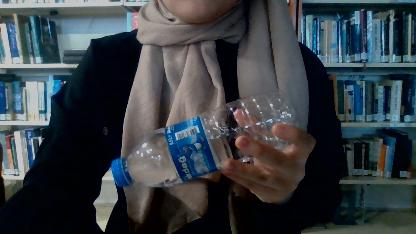Plastic Bottle: (108, 96, 308, 187)
